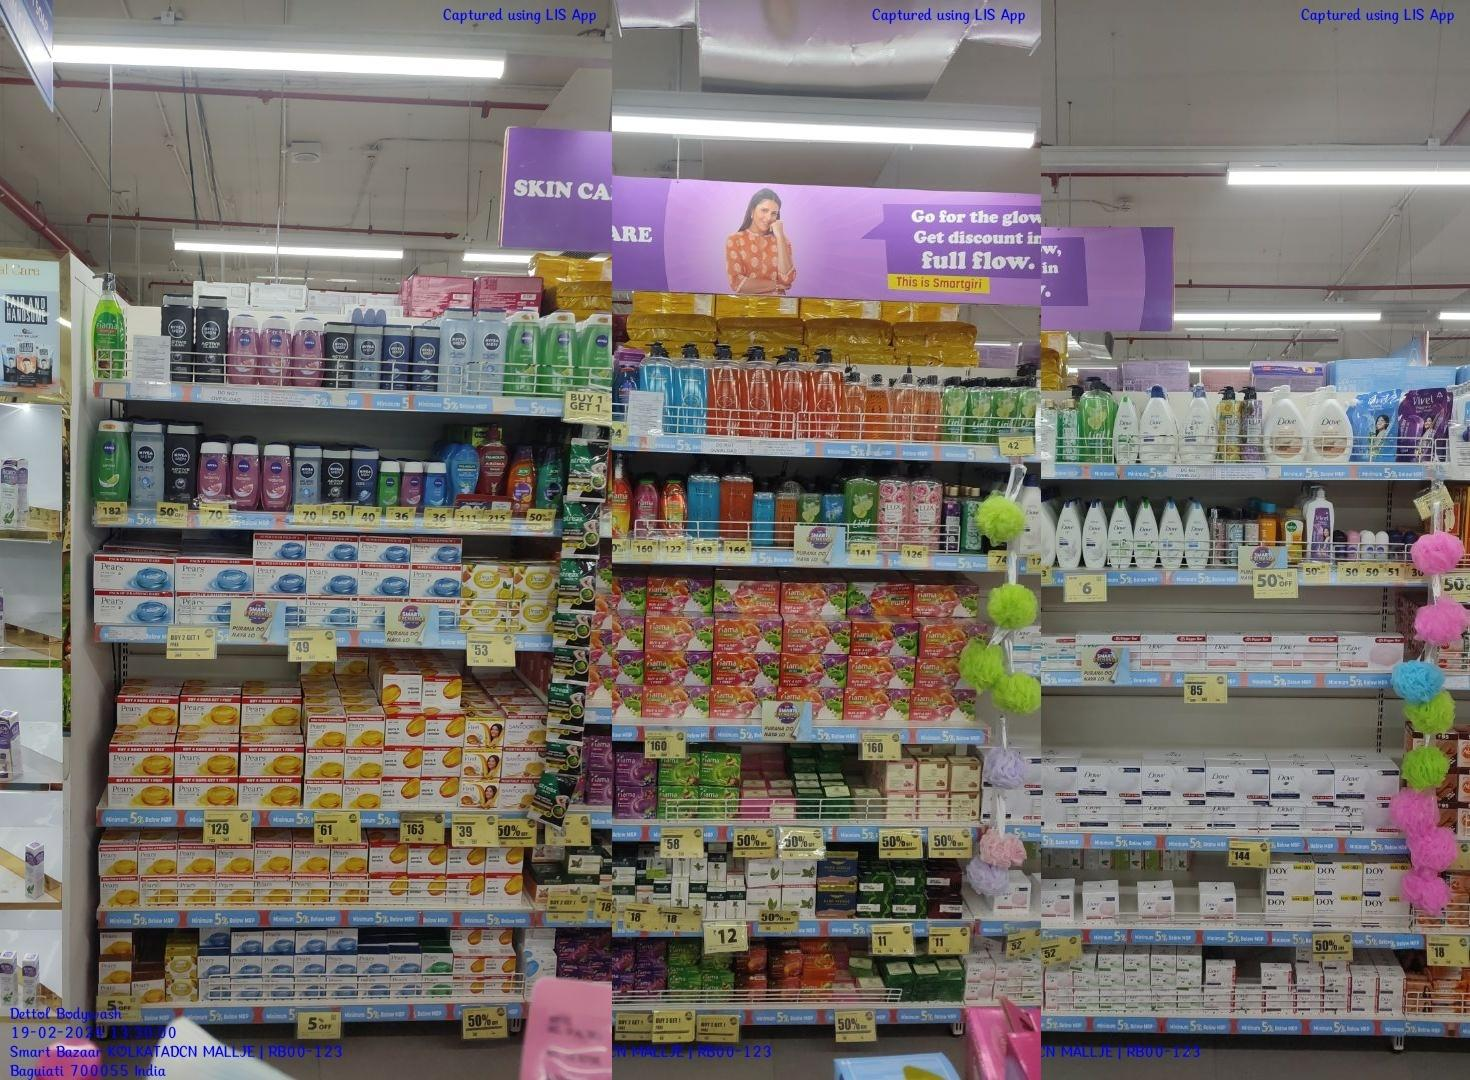Dettol_Bodywash_Refresh: (1282, 507, 1305, 563)
Dove_Deep_Moisture_Body_Wash_250ML: (1055, 498, 1081, 565), (1083, 502, 1106, 567)
Dove_Gentle_Exfoliating_Body_Wash_250ML: (1184, 500, 1210, 567), (1160, 497, 1182, 571)
Dove_Refreshing_Body_Wash_250ML: (1112, 394, 1138, 465), (1107, 499, 1132, 567), (1134, 498, 1157, 567)
Fiama_Shower_Gel_Lemongrass_and_Jojoba_250ML: (659, 474, 686, 535)
Fiama_Shower_Gel_Patchouli_and_Macadamia_250ML: (635, 477, 657, 534)
Joy_Shower_Gel_Mandarin_and_Lemongrass_250ML: (508, 442, 534, 508)
Joy_Shower_Gel_Mint_and_Eucalyptus_250ML: (538, 448, 562, 511)
Liril_Cooling_Mint_Body_Wash_250ML: (822, 484, 843, 526)
Liril_Lime_and_Tea_Tree_Oil_Body_Wash_250ML: (943, 373, 967, 443), (969, 374, 992, 442), (993, 377, 1018, 436), (799, 478, 821, 525)
Lux_Black_Orchid_Scent_and_Juniper_Oil_Body_Wash_245ML: (942, 484, 960, 553)
Lux_Body_Wash_Skin_Detox_Freesia_Scent_and_Alove_Vera_245ML: (1060, 397, 1080, 461), (962, 486, 980, 554)
Nivea_Shower_Gel_Lemon_and_Oil_250ML: (94, 413, 130, 500), (506, 306, 541, 395), (542, 313, 579, 394), (581, 314, 612, 393)
Nivea_Shower_Gel_Waterlily_and_Oil_250ML: (226, 314, 258, 385), (259, 314, 291, 385), (293, 315, 322, 386), (232, 441, 260, 511), (199, 442, 229, 502), (262, 445, 291, 510)
Palmolive_Aroma_Moments_Feel_The_Massage_Shower_Gel_250ML: (452, 442, 479, 494)
Pears_Pure_Glycerin_and_Mint_Extracts_Body_Wash_250ML: (750, 485, 776, 547)
